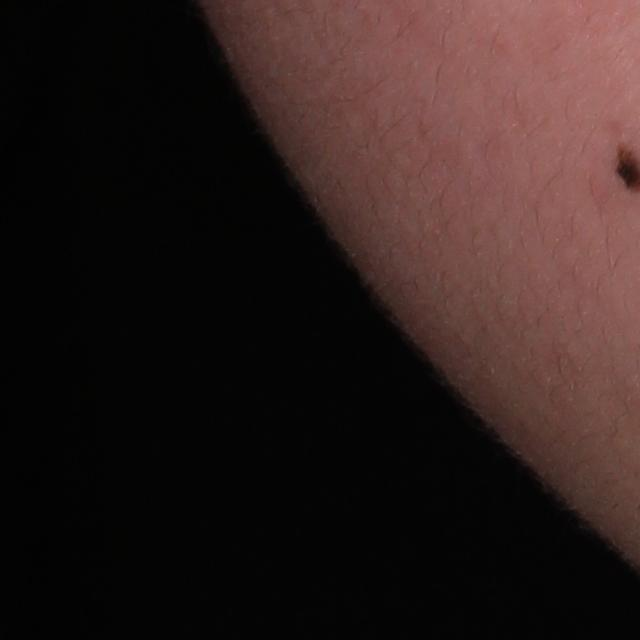nevus: (612, 152, 640, 190)
